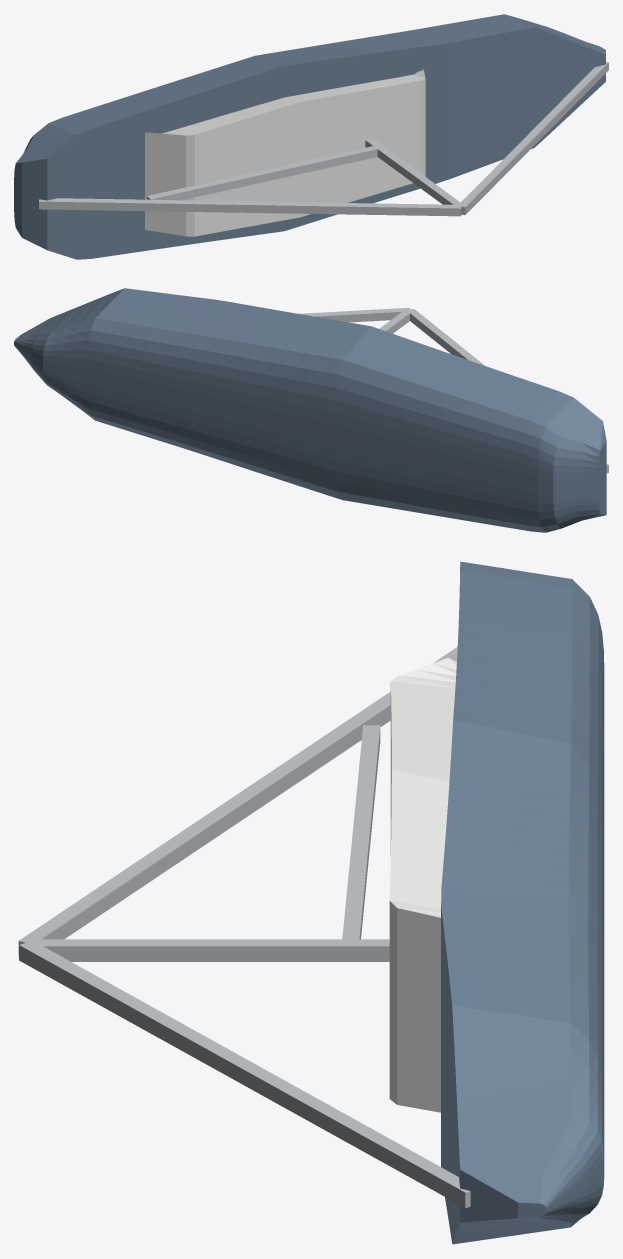
File: loft-sail-large-highside.glb
The picture shows the model from 3 angles, top to bottom: view 1: azimuth 30°, elevation 25°; view 2: azimuth 150°, elevation 25°; view 3: azimuth 270°, elevation 25°; orthographic projection. The views are drawn at different scales.
Visible parts, largest first — view 1: loft-sail-large-highside; view 2: loft-sail-large-highside; view 3: loft-sail-large-highside.
Boxes of the visible parts, x1,y1,x2,y2 form: loft-sail-large-highside: (14,14,608,259); loft-sail-large-highside: (14,288,608,532); loft-sail-large-highside: (18,561,604,1244).
Size of the model in its own units: 1.88 by 0.5058 by 0.8193.
